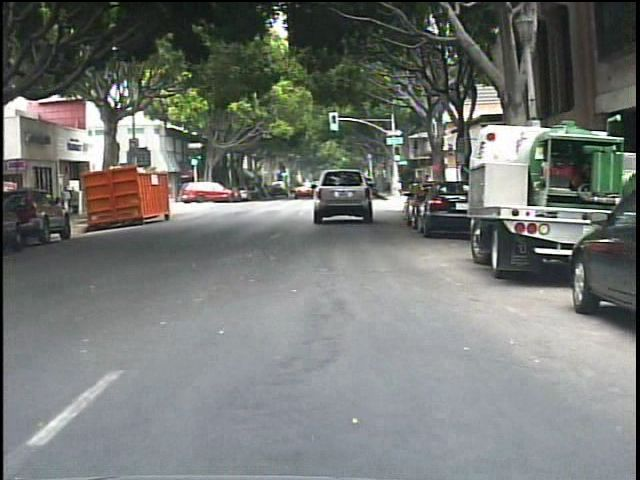car: (307, 164, 379, 226), (416, 181, 486, 234), (9, 184, 74, 240), (177, 175, 237, 205)
